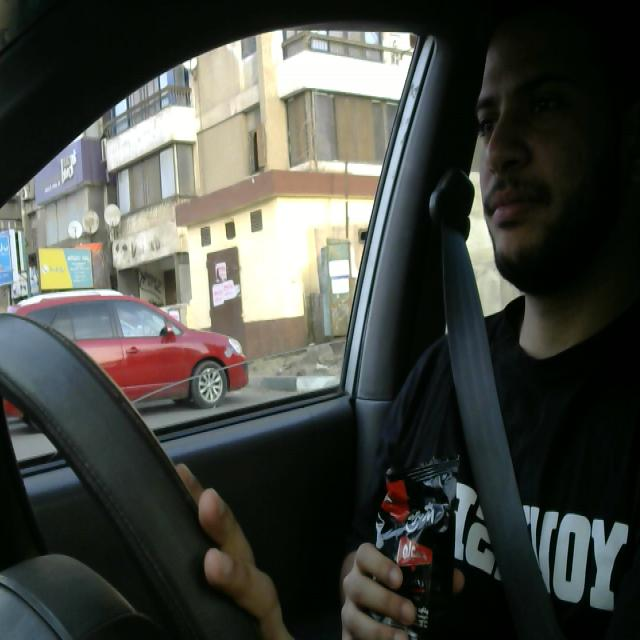eating: (370, 457, 462, 640)
